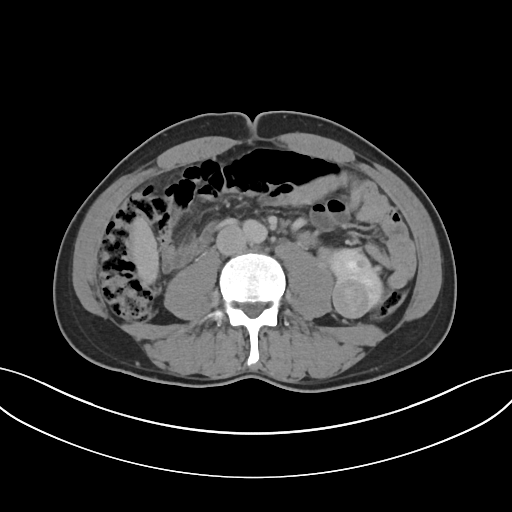Lesion: (332, 277, 372, 322)
